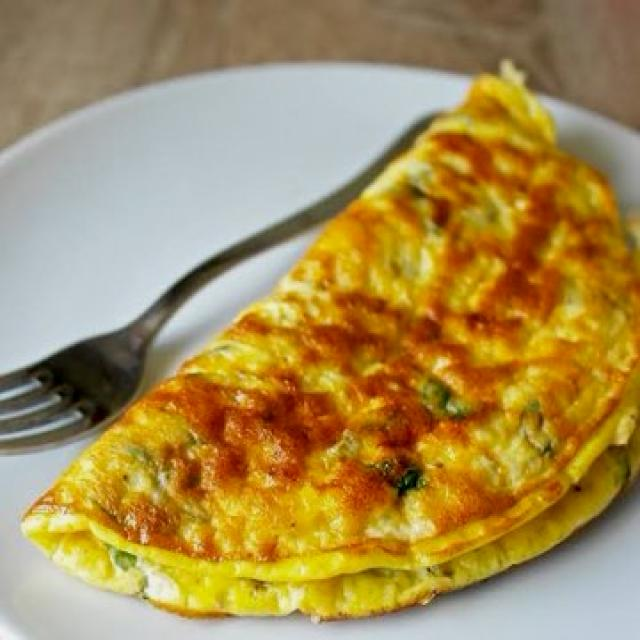telur dadar: (18, 61, 640, 625)
